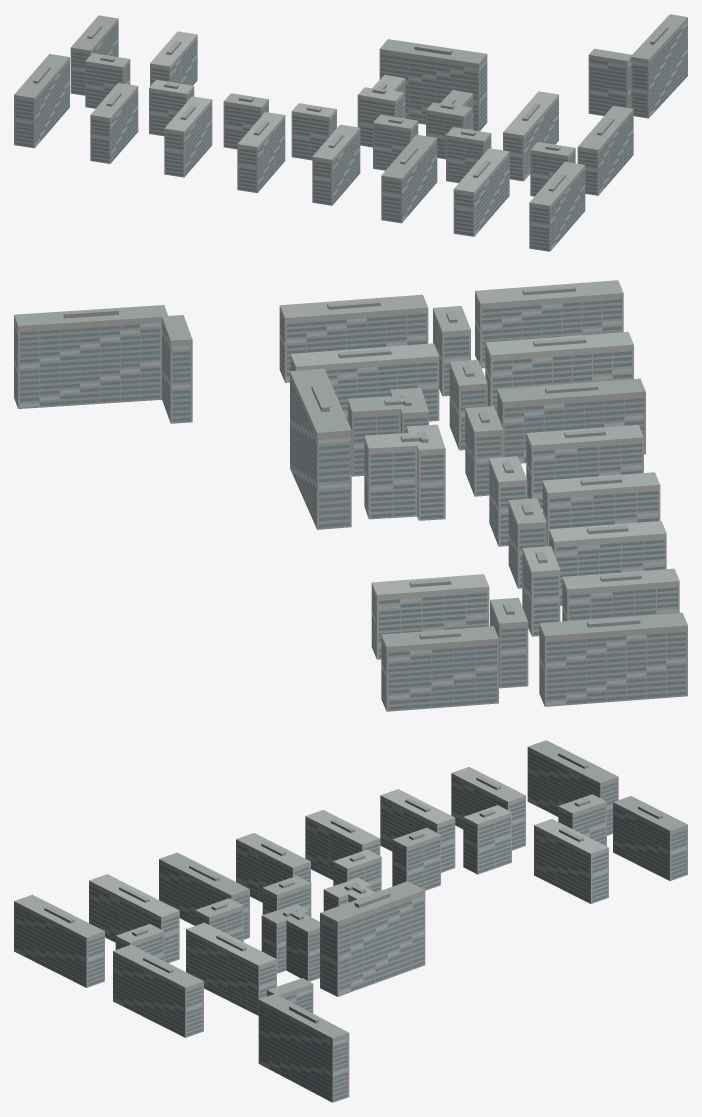
Rendered from apt-a13991018.glb.
The picture shows the model from 3 angles, top to bottom: view 1: azimuth 30°, elevation 25°; view 2: azimuth 150°, elevation 25°; view 3: azimuth 270°, elevation 25°; orthographic projection. The views are drawn at different scales.
Visible parts, largest first — view 1: apt-a13991018; view 2: apt-a13991018; view 3: apt-a13991018.
Boxes of the visible parts, <box> form: apt-a13991018: <box>14,14,687,251</box>; apt-a13991018: <box>14,280,687,711</box>; apt-a13991018: <box>14,740,687,1102</box>.
Bounding box in the file's own units: 401 × 47.81 × 371.
